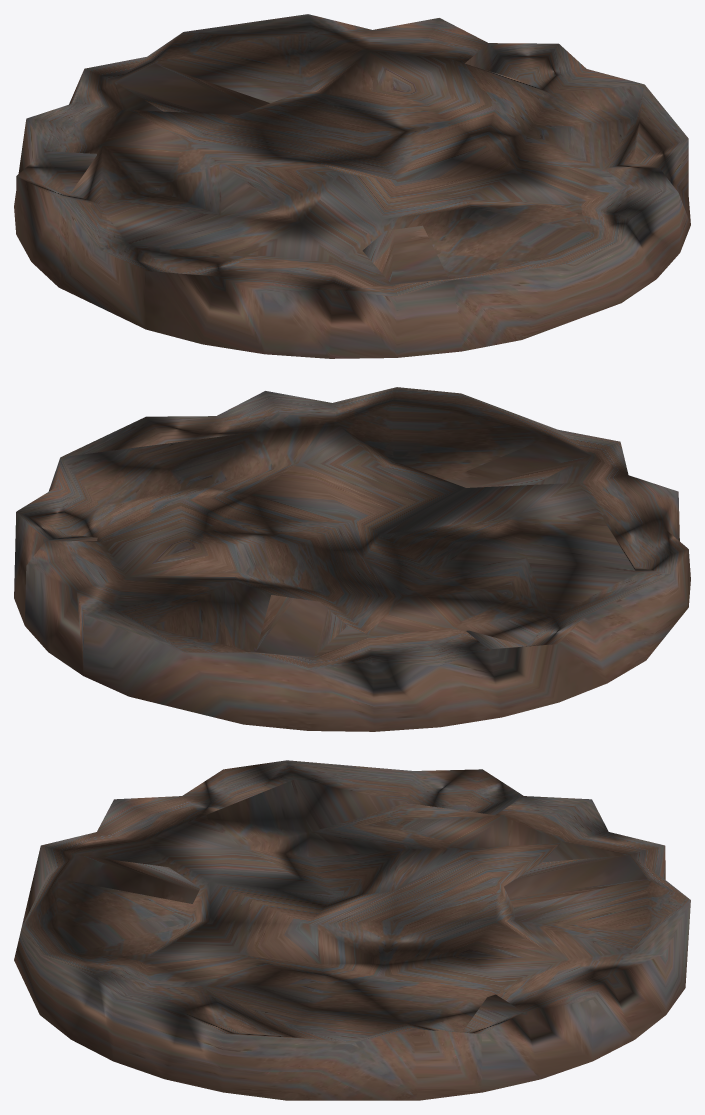
Rendered from alcantarilla.glb.
3 renders of one model, top to bottom at view 1: azimuth 30°, elevation 25°; view 2: azimuth 150°, elevation 25°; view 3: azimuth 270°, elevation 25°, orthographic.
Visible parts, largest first — view 1: alcantarilla; view 2: alcantarilla; view 3: alcantarilla.
Part boxes in pixels (left/top/right/bottom): alcantarilla: left=14, top=14, right=690, bottom=358; alcantarilla: left=14, top=387, right=690, bottom=731; alcantarilla: left=14, top=760, right=690, bottom=1100.
Size of the model in its own units: 0.6889 by 0.0676 by 0.6897.
Materials: 1 (1 with a texture image).
